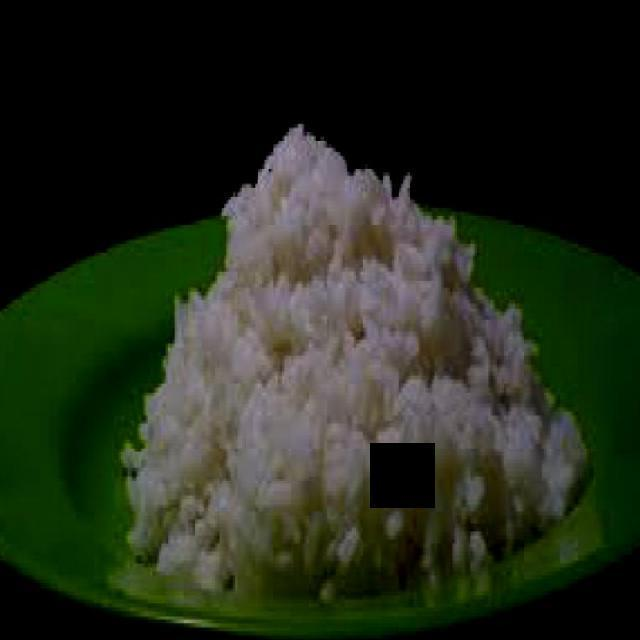Chicken -Chicken Inasal-: (136, 130, 583, 589)
